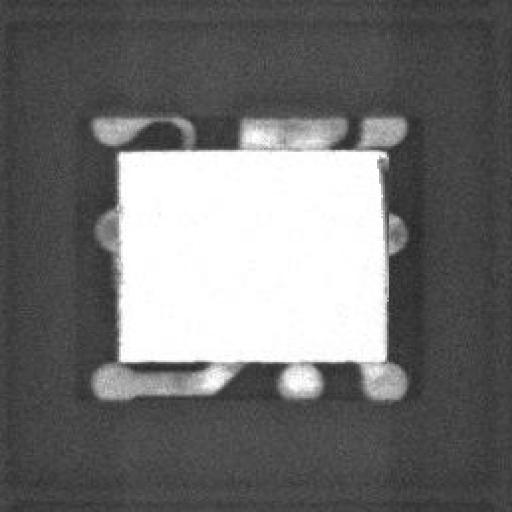DIE_BROKEN: (371, 150, 391, 254)
